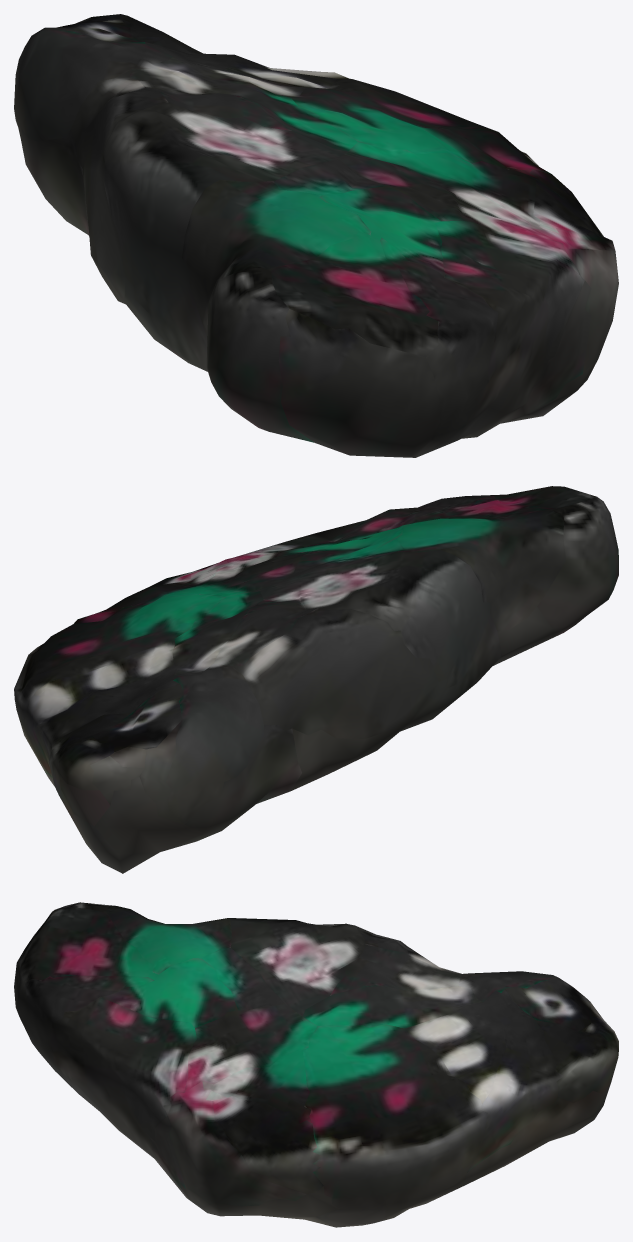
The model's file is hall.glb.
The picture shows the model from 3 angles, top to bottom: view 1: azimuth 30°, elevation 25°; view 2: azimuth 150°, elevation 25°; view 3: azimuth 270°, elevation 25°; orthographic projection. The views are drawn at different scales.
Bounding box in the file's own units: 0.3146 × 0.1753 × 0.4798.
Materials: 1 (1 with a texture image).
